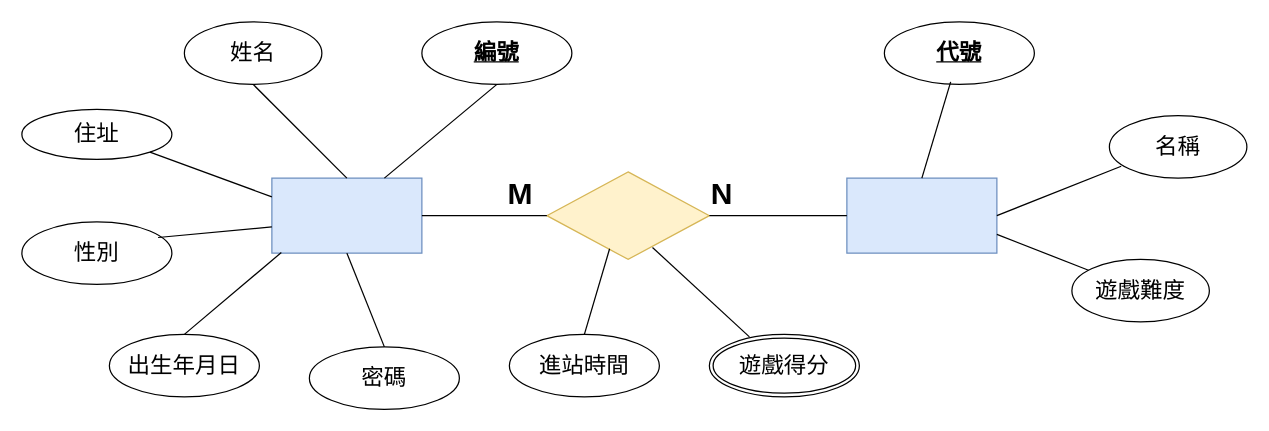
Image size: 1269x431. Some labels were removed from this diagram. Each missing label, with the centre of its shape:
"會員" goes at pixel 346 215.
"進站" goes at pixel 627 215.
"遊戲" goes at pixel 921 215.
